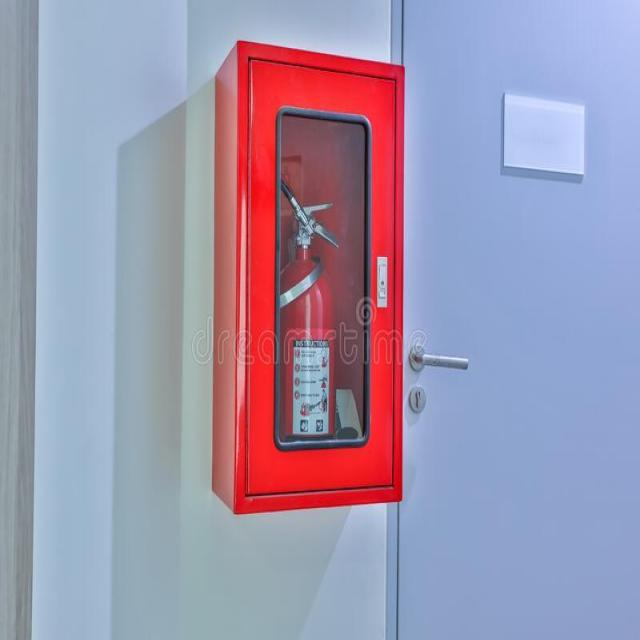fire_extinguisher: (272, 185, 345, 487)
